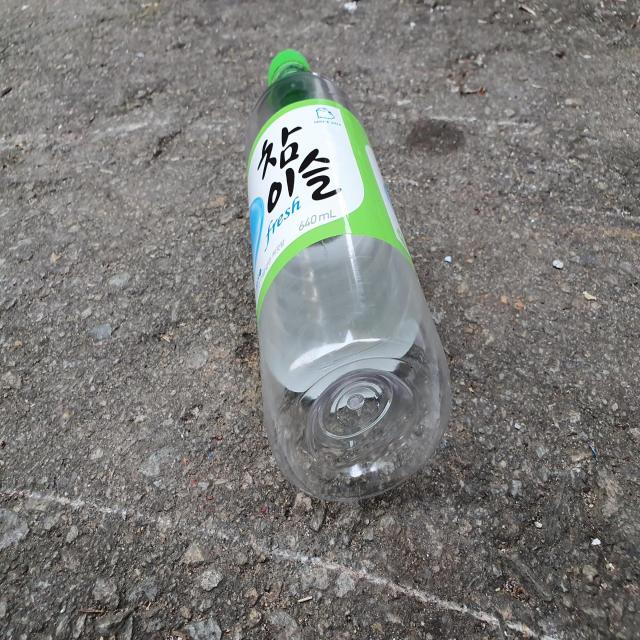plastic: (246, 48, 452, 501)
